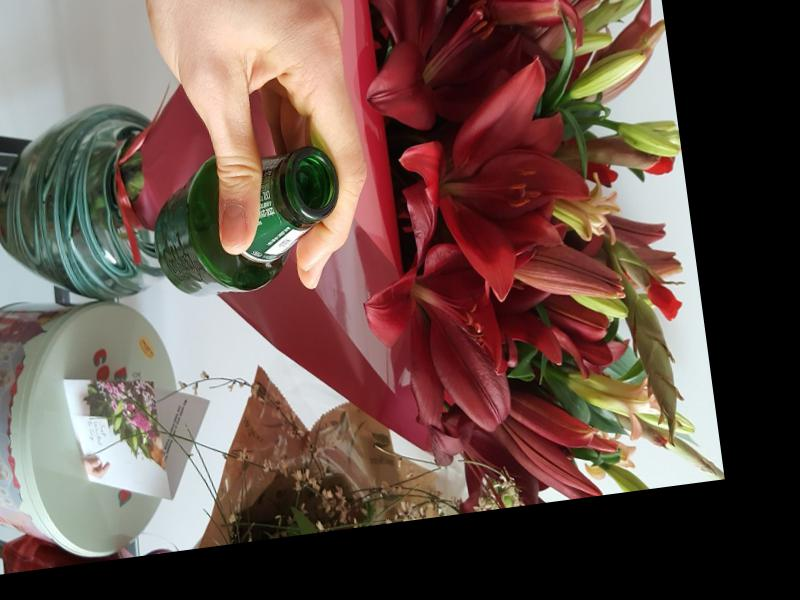Beer: (144, 138, 351, 302)
